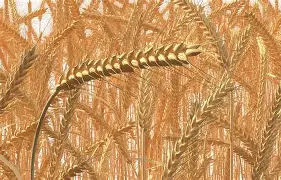crops: (0, 0, 275, 177), (0, 117, 37, 177)
